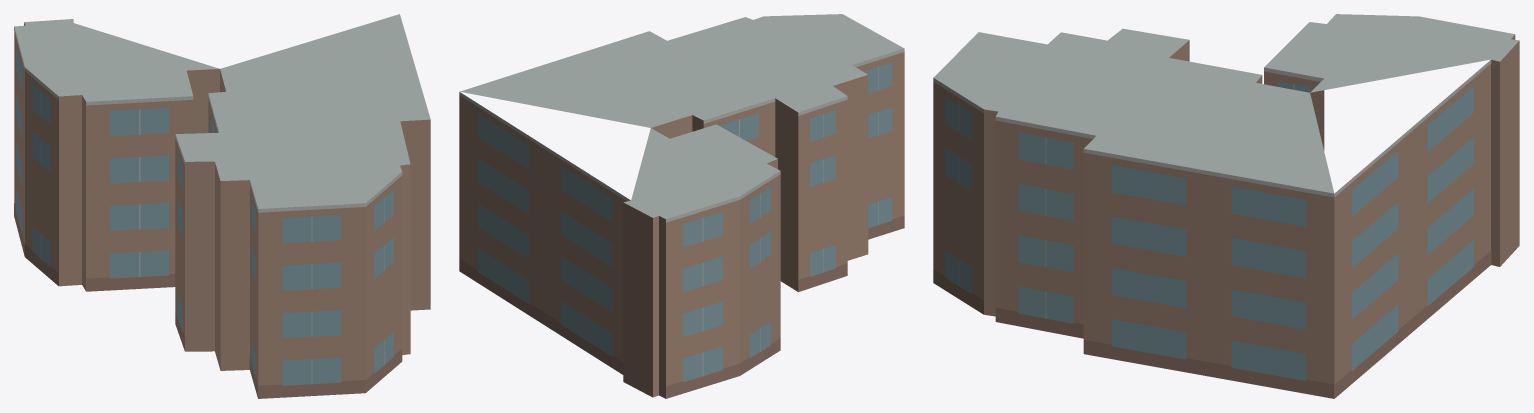
File: survey-upis-32668823.glb
3 views of the same model, side by side, from view 1: azimuth 30°, elevation 25°; view 2: azimuth 150°, elevation 25°; view 3: azimuth 270°, elevation 25° (orthographic). The views are drawn at different scales.
Parts seen in each view (by area): view 1: survey-upis-32668823.tmp; view 2: survey-upis-32668823.tmp; view 3: survey-upis-32668823.tmp.
Boxes of the visible parts, <box> form: survey-upis-32668823.tmp: <box>14,14,430,398</box>; survey-upis-32668823.tmp: <box>459,14,904,398</box>; survey-upis-32668823.tmp: <box>933,14,1519,398</box>.
Bounding box in the file's own units: 23.83 × 12.7 × 32.87.
